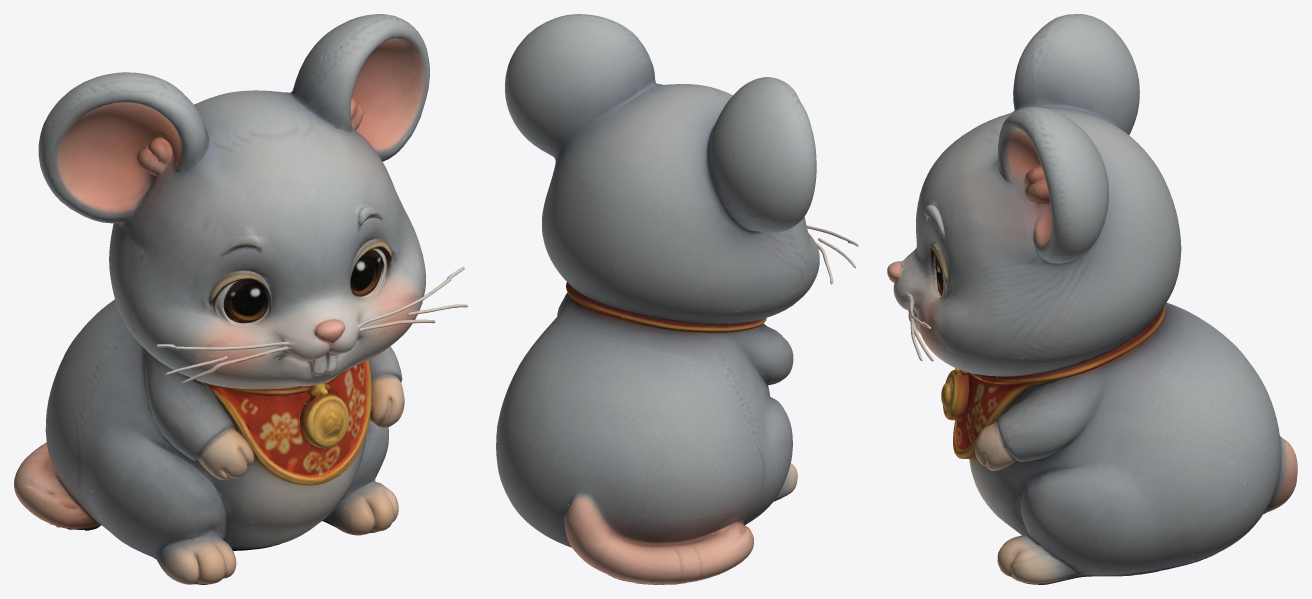
File: hi3d-zodiac-rat-web.glb
3 renders of one model, left to right at view 1: azimuth 30°, elevation 25°; view 2: azimuth 150°, elevation 25°; view 3: azimuth 270°, elevation 25°, orthographic. The views are drawn at different scales.
Visible parts, largest first — view 1: zodiac_rat_mesh_01; view 2: zodiac_rat_mesh_01; view 3: zodiac_rat_mesh_01.
Part boxes in pixels (bbox=[...]): zodiac_rat_mesh_01: bbox=[14, 14, 467, 584]; zodiac_rat_mesh_01: bbox=[496, 14, 858, 584]; zodiac_rat_mesh_01: bbox=[887, 14, 1297, 584].
Bounding box in the file's own units: 0.7636 × 0.9995 × 0.7986.
Materials: 1 (1 with a texture image).
